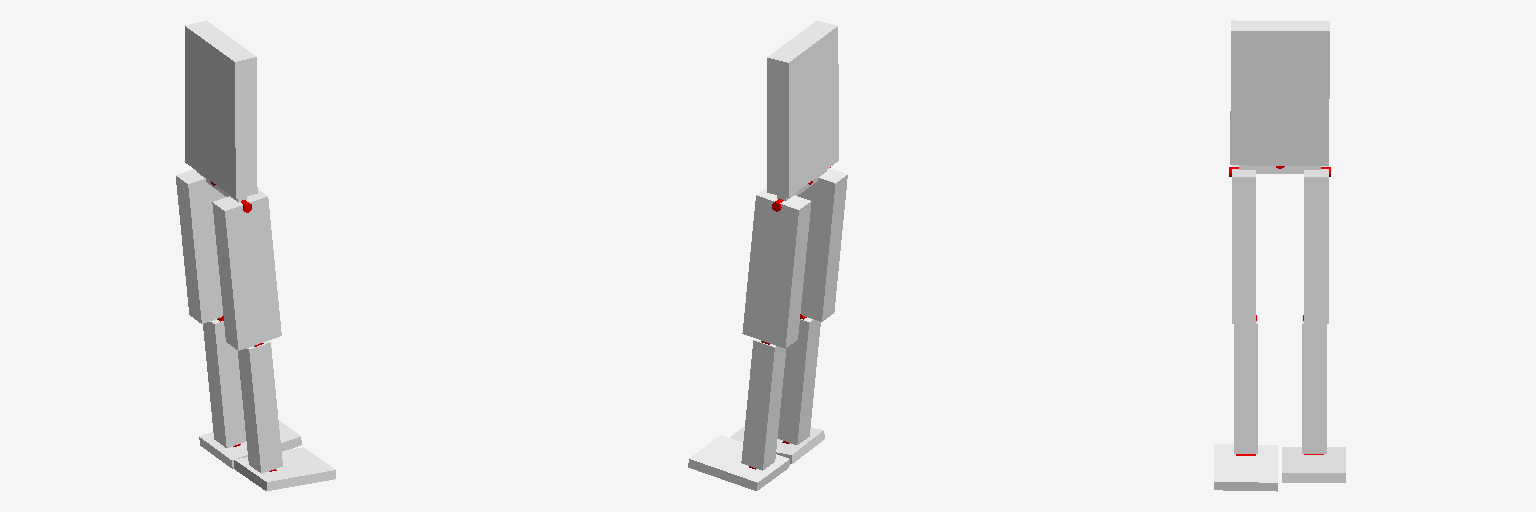
URDF robot description (humanoid):
<?xml version="1.0" ?>
<robot name="humanoid">

    <link name="body">
        <visual>
            <geometry>
                <box size="0.05 0.2 0.3"/>
            </geometry>
            <origin xyz="0.0 0 0" rpy="-0.0056 -0.0021 0"/>
            <material name="linkColor">
                <color rgba="1 1 1 1"/>
            </material>
        </visual>
        <inertial>
            <mass value="10.14"/>
            <inertia ixx="190" ixy="-0.237" ixz="2.20" iyy="194" iyz="1.42" izz="30.8"/>
            <origin xyz="0.00672 0.00244 0.076" rpy="0 0 0"/>
        </inertial>
        <collision>
            <geometry>
                <box size="0.05 0.2 0.3"/>
            </geometry>
            <origin xyz="0.0 0 0" rpy="-0.0056 -0.0021 0"/>
        </collision>
    </link>


    <joint name="torsoBody" type="fixed">
        <parent link="body"/>
        <child link="torso"/>
        <origin xyz="0 0.0 -0.15" rpy="0 0 0"/>
        <axis xyz="1 0 0"/>
        <limit effort="10" lower="-3" upper="+3" velocity="10"/>
        <dynamics damping="0"/>
    </joint>

    <link name="torso">
        <visual>
            <geometry>
                <cylinder length="0.04" radius="0.01"/>
            </geometry>
            <origin xyz="0 0 0" rpy="0 1.57 0"/>
            <axis xyz="0 0 0" />
            <material name="red">
                <color rgba="1 0.0 0.0 1.0"/>
            </material>
        </visual>
        <inertial>
            <mass value="0.0"/>
            <inertia ixx="0" ixy="0" ixz="0.0" iyy="0" iyz="0.0" izz="0"/>
        </inertial>
    </link>





    <!-- ****************************Right leg joints******************************************** -->

    <joint name="jointHipR" type="revolute">
        <parent link="torso"/>
        <child link="hipCylinderR"/>
        <origin xyz="0 0.0 0.0" rpy="0 -0.1 0"/>
        <axis xyz="1 0 0"/>
        <limit effort="10" lower="-3" upper="+3" velocity="10"/>
        <dynamics damping="0"/>
    </joint>


    <link name="hipCylinderR">
        <visual>
            <geometry>
                <cylinder length="0.04" radius="0.01"/>
            </geometry>
            <origin xyz="0 0 0.0" rpy="0 1.57 0"/>
            <axis xyz="0 0 0" />
            <material name="red">
                <color rgba="1 0.0 0.0 1.0"/>
            </material>
        </visual>
        <inertial>
            <mass value="0"/>
            <inertia ixx="0" ixy="0" ixz="0.0" iyy="0" iyz="0.0" izz="0"/>
        </inertial>
    </link>

    <joint name="jointUpperLegR" type="revolute">
        <parent link="hipCylinderR"/>
        <child link="upperLegCylinderR"/>
        <origin xyz="0 -0.0830 -0.0250" rpy="0 0 0"/>
        <axis xyz="0 1 0"/>
        <limit effort="10" lower="-3" upper="+3" velocity="10"/>
        <dynamics damping="0"/>
    </joint>

    <link name="upperLegCylinderR">
        <visual>
            <geometry>
                <cylinder length="0.04" radius="0.01"/>
            </geometry>
            <origin xyz="0 0 0" rpy="1.57 0 0"/>
            <axis xyz="0 0 0" />
            <material name="red"/>
        </visual>
        <inertial>
            <mass value="0"/>
            <inertia ixx="0" ixy="0" ixz="0.0" iyy="0" iyz="0.0" izz="0"/>
        </inertial>
    </link>

    <joint name="jointLowerLegR" type="revolute">
        <parent link="upperLegCylinderR"/>
        <child link="lowerlegCylinderR"/>
        <origin xyz="0.00110 0.0140 -0.3155" rpy="0 0 0"/>
        <axis xyz="0 1 0"/>
        <limit effort="10" lower="-3" upper="+3" velocity="10"/>
        <dynamics damping="0"/>
    </joint>

    <link name="lowerlegCylinderR">
        <visual>
            <geometry>
                <cylinder length="0.044" radius="0.01"/>
            </geometry>
            <origin xyz="0 0 0" rpy="1.57075 0 0"/>
            <axis xyz="0 0 0" />
            <material name="red"/>
        </visual>
        <inertial>
            <mass value="0"/>
            <inertia ixx="0" ixy="0" ixz="0.0" iyy="0" iyz="0.0" izz="0"/>
        </inertial>
    </link>

    <joint name="jointAnkleR" type="revolute">
        <parent link="lowerlegCylinderR"/>
        <child link="ankleCylinderR"/>
        <origin xyz="0.00300 0 -0.2915" rpy="-0.021 0.164 0"/>
        <axis xyz="0 1 0"/>
        <limit effort="10" lower="-3" upper="+3" velocity="10"/>
        <dynamics damping="0"/>
    </joint>

    <link name="ankleCylinderR">
        <visual>
            <geometry>
                <cylinder length="0.04" radius="0.01"/>
            </geometry>
            <origin xyz="0 0 0.0" rpy="1.57075 0 0"/>
            <axis xyz="0 0 0" />
            <material name="red"/>
        </visual>
        <inertial>
            <mass value="0"/>
            <inertia ixx="0" ixy="0" ixz="0.0" iyy="0" iyz="0.0" izz="0"/>
        </inertial>
    </link>
<!-- 
    <joint name="jointfootR" type="revolute">
        <parent link="ankleCylinderR"/>
        <child link="footCylinderR"/>
        <origin xyz="0 0 -0.0115" rpy="0 0 0"/>
        <axis xyz="1 0 0"/>
        <limit effort="10" lower="-3" upper="+3" velocity="10"/>
        <dynamics damping="0"/>
    </joint>

    <link name="footCylinderR">
        <visual>
            <geometry>
                <cylinder length="0.04" radius="0.01"/>
            </geometry>
            <origin xyz="0 0 0.02" rpy="0 1.57 0"/>
            <axis xyz="0 0 0" />
            <material name="red"/>
        </visual>
        <inertial>
            <mass value="0"/>
            <inertia ixx="0" ixy="0" ixz="0.0" iyy="0" iyz="0.0" izz="0"/>
        </inertial>
    </link> -->


    <!--************************************ Left leg joints **********************************************-->


    <joint name="jointHipL" type="revolute">
        <parent link="torso"/>
        <child link="hipCylinderL"/>
        <origin xyz="0 0.0 0.0" rpy="0 -0.1 0"/>
        <axis xyz="1 0 0"/>
        <limit effort="10" lower="-3" upper="+3" velocity="10"/>
        <dynamics damping="0"/>
    </joint>


    <link name="hipCylinderL">
        <visual>
            <geometry>
                <cylinder length="0.04" radius="0.01"/>
            </geometry>
            <origin xyz="0 0 0.0" rpy="0 1.57 0"/>
            <axis xyz="0 0 0" />
            <material name="red">
                <color rgba="1 0.0 0.0 1.0"/>
            </material>
        </visual>
        <inertial>
            <mass value="0"/>
            <inertia ixx="0" ixy="0" ixz="0.0" iyy="0" iyz="0.0" izz="0"/>
        </inertial>
    </link>

    <joint name="jointUpperLegL" type="revolute">
        <parent link="hipCylinderL"/>
        <child link="upperLegCylinderL"/>
        <origin xyz="0 0.0830 -0.0250" rpy="0 0 0"/>
        <axis xyz="0 1 0"/>
        <limit effort="10" lower="-3" upper="+3" velocity="10"/>
        <dynamics damping="0"/>
    </joint>

    <link name="upperLegCylinderL">
        <visual>
            <geometry>
                <cylinder length="0.04" radius="0.01"/>
            </geometry>
            <origin xyz="0 0 0.0" rpy="1.57 0 0"/>
            <axis xyz="0 0 0" />
            <material name="red"/>
        </visual>
        <inertial>
            <mass value="0"/>
            <inertia ixx="0" ixy="0" ixz="0.0" iyy="0" iyz="0.0" izz="0"/>
        </inertial>
    </link>

    <joint name="jointLowerLegL" type="revolute">
        <parent link="upperLegCylinderL"/>
        <child link="lowerlegCylinderL"/>
        <origin xyz="0.00110 -0.0140 -0.3155" rpy="0 0 0"/>
        <axis xyz="0 1 0"/>
        <limit effort="10" lower="-3" upper="+3" velocity="10"/>
        <dynamics damping="0"/>
    </joint>

    <link name="lowerlegCylinderL">
        <visual>
            <geometry>
                <cylinder length="0.044" radius="0.01"/>
            </geometry>
            <origin xyz="0 0 0" rpy="1.57075 0 0"/>
            <axis xyz="0 0 0" />
            <material name="red"/>
        </visual>
        <inertial>
            <mass value="0"/>
            <inertia ixx="0" ixy="0" ixz="0.0" iyy="0" iyz="0.0" izz="0"/>
        </inertial>
    </link>

    <joint name="jointAnkleL" type="revolute">
        <parent link="lowerlegCylinderL"/>
        <child link="ankleCylinderL"/>
        <origin xyz="0.00300 0 -0.2915" rpy="0 0 0"/>
        <axis xyz="0 1 0"/>
        <limit effort="10" lower="-3" upper="+3" velocity="10"/>
        <dynamics damping="0"/>
    </joint>

    <link name="ankleCylinderL">
        <visual>
            <geometry>
                <cylinder length="0.04" radius="0.01"/>
            </geometry>
            <origin xyz="0 0 0.0" rpy="1.57075 0 0"/>
            <axis xyz="0 0 0" />
            <material name="red"/>
        </visual>
        <inertial>
            <mass value="0"/>
            <inertia ixx="0" ixy="0" ixz="0.0" iyy="0" iyz="0.0" izz="0"/>
        </inertial>
    </link>

    <!-- <joint name="jointfootL" type="revolute">
        <parent link="ankleCylinderL"/>
        <child link="footCylinderL"/>
        <origin xyz="0 0 -0.0115" rpy="0 0 0"/>
        <axis xyz="1 0 0"/>
        <limit effort="10" lower="-3" upper="+3" velocity="10"/>
        <dynamics damping="0"/>
    </joint>

    <link name="footCylinderL">
        <visual>
            <geometry>
                <cylinder length="0.04" radius="0.01"/>
            </geometry>
            <origin xyz="0 0 0.02" rpy="0 1.57 0"/>
            <axis xyz="0 0 0" />
            <material name="red"/>
        </visual>
        <inertial>
            <mass value="0"/>
            <inertia ixx="0" ixy="0" ixz="0.0" iyy="0" iyz="0.0" izz="0"/>
        </inertial>
    </link> -->




    <!-- **************************************Decorations Right leg **********************************************-->


    <joint name="fixed_hipBridgeR" type="fixed">
        <parent link="hipCylinderR"/>
        <child link="hipBridgeR"/>
    </joint>

    <link name="hipBridgeR">
        <visual>
            <geometry>
                <box size="0.02 0.0830 0.0250"/>
            </geometry>
            <origin xyz="0.0 -0.0415 -0.0125" rpy="0 0 0"/>
            <material name="linkColor">
                <color rgba="1 1 1 1"/>
            </material>
        </visual>
        <inertial>
            <mass value="0.219"/>
            <inertia ixx="0.414" ixy="0.149" ixz="0.00188" iyy="0.128" iyz="-0.0311" izz="0.395"/>
            <origin rpy="0 0 0" xyz="0.00131 -0.0515 -0.00661"/>
        </inertial>
        <collision>
            <geometry>
                <box size="0.02 0.0830 0.0250"/>
            </geometry>
            <origin xyz="0.0 -0.0415 -0.0125" rpy="0 0 0"/>
        </collision>
    </link>

    <joint name="fixed_upperLegBridgeR" type="fixed">
        <parent link="upperLegCylinderR"/>
        <child link="upperLegBridgeR"/>
    </joint>

    <link name="upperLegBridgeR">
        <visual>
            <geometry>
                <box size="0.1 0.05 0.3155"/>
            </geometry>
            <origin xyz="0 0.01 -0.15" rpy="0 0 0"/>
            <material name="linkColor">
                <color rgba="1 1 1 1"/>
            </material>
        </visual>
        <inertial>
            <mass value="1.94"/>
            <inertia ixx="10.4" ixy="-0.00195" ixz="-0.00195" iyy="-0.127" iyz="0.0231" izz="1.61"/>
            <origin xyz="0.00154 -0.00421 -0.111" rpy="0 0 0"/>
        </inertial>
        <collision>
            <geometry>
                <box size="0.1 0.05 0.3155"/>
            </geometry>
            <origin xyz="00 0.01 -0.15" rpy="0 0 0"/>
        </collision>
    </link>

    <joint name="fixed_lowerLegBridgeR" type="fixed">
        <parent link="lowerlegCylinderR"/>
        <child link="lowerLegBridgeR"/>
    </joint>

    <link name="lowerLegBridgeR">
        <visual>
            <geometry>
                <box size="0.05 0.05 0.28"/>
            </geometry>
            <origin xyz="0 0 -0.14" rpy="0 0 0"/>
            <material name="linkColor">
                <color rgba="1 1 1 1"/>
            </material>
        </visual>
        <inertial>
            <mass value="0.267"/>
            <inertia ixx="2.52" ixy="-0.000411" ixz="0.0366" iyy="2.45" iyz="-0.0238" izz="0.110"/>
            <origin xyz="0.00153 0.00496 -0.105" rpy="0 0 0"/>
        </inertial>
        <collision>
            <geometry>
                <box size="0.05 0.05 0.28"/>
            </geometry>
            <origin xyz="0 0 -0.14" rpy="0 0 0"/>
        </collision>
    </link>


    <joint name="fixed_ankleBridgeR" type="fixed">
        <parent link="ankleCylinderR"/>
        <child link="ankleBridgeR"/>
    </joint>

    <link name="ankleBridgeR">
        <visual>
            <geometry>
                <box size="0.16 0.13 0.02"/>
            </geometry>
            <origin xyz="0.04 0 -0.005" rpy="0 0 0"/>
            <material name="linkColor">
                <color rgba="1 1 1 1"/>
            </material>
        </visual>
        <inertial>
            <mass value="0.2356"/>
            <inertia ixx="0.0952" ixy="0.00066457" ixz="0.0003989" iyy="0.5002" iyz="-0.005328" izz="0.5679"/>
            <origin xyz="0.0230654545 0.0004316655 -0.0061157216" rpy="0 0 0"/>
        </inertial>
        <collision>
            <geometry>
                <box size="0.16 0.13 0.02"/>
            </geometry>
            <origin xyz="0.04 0 -0.01" rpy="0 0 0"/>
        </collision>
    </link>


    <!--&lt;!&ndash; *********************************Decorations Left leg ******************************************&ndash;&gt;-->
    <joint name="fixed_hipBridgeL" type="fixed">
        <parent link="hipCylinderL"/>
        <child link="hipBridgeL"/>
    </joint>

    <link name="hipBridgeL">
        <visual>
            <geometry>
                <box size="0.02 0.0830 0.0250"/>
            </geometry>
            <origin xyz="0 0.0415 -0.0125" rpy="0 0 0"/>
            <material name="linkColor">
                <color rgba="1 1 1 1"/>
            </material>
        </visual>
        <inertial>
            <mass value="0.219"/>
            <inertia ixx="0.414" ixy="0.149" ixz="0.0311" iyy="0.128" iyz="-0.00188" izz="0.395"/>
            <origin rpy="0 0 0" xyz="-0.00131 0.515 -0.00661"/>
        </inertial>
        <collision>
            <geometry>
                <box size="0.02 0.0830 0.0250"/>
            </geometry>
            <origin xyz="0 0.0415 0.0125" rpy="0 0 0"/>
        </collision>
    </link>

    <joint name="fixed_upperLegBridgeL" type="fixed">
        <parent link="upperLegCylinderL"/>
        <child link="upperLegBridgeL"/>
    </joint>

    <link name="upperLegBridgeL">
        <visual>
            <geometry>
                <box size="0.1 0.05 0.3155"/>
            </geometry>
            <origin xyz="0 -0.01 -0.15" rpy="0 0 0"/>
            <material name="linkColor">
                <color rgba="1 1 1 1"/>
            </material>
        </visual>
        <inertial>
            <mass value="1.94"/>
            <inertia ixx="10.4" ixy="0.00286" ixz=" 0.325" iyy="9.33" iyz="0.0226" izz="1.65"/>
            <origin xyz="-0.00167 0.00371 -0.111" rpy="0 0 0"/>
        </inertial>
        <collision>
            <geometry>
                <box size="0.1 0.05 0.3155"/>
            </geometry>
            <origin xyz="0.0005 -0.007 -0.15" rpy="0 0 0"/>
        </collision>
    </link>

    <joint name="fixed_lowerLegBridgeL" type="fixed">
        <parent link="lowerlegCylinderL"/>
        <child link="lowerLegBridgeL"/>
    </joint>

    <link name="lowerLegBridgeL">
        <visual>
            <geometry>
                <box size="0.05 0.05 0.28"/>
            </geometry>
            <origin xyz="0 0 -0.14" rpy="0 0 0"/>
            <material name="linkColor">
                <color rgba="1 1 1 1"/>
            </material>
        </visual>
        <inertial>
            <mass value="0.267"/>
            <inertia ixx="2.52" ixy="-0.000411" ixz="0.0366" iyy="2.45" iyz="-0.0238" izz="0.110"/>
            <origin xyz="0.00153 0.00496 -0.105" rpy="0 0 0"/>
        </inertial>
        <collision>
            <geometry>
                <box size="0.05 0.05 0.28"/>
            </geometry>
            <origin xyz="0.0015 0 -0.14" rpy="0 0 0"/>
        </collision>
    </link>


    <joint name="fixed_ankleBridgeL" type="fixed">
        <parent link="ankleCylinderL"/>
        <child link="ankleBridgeL"/>
    </joint>

    <link name="ankleBridgeL">
        <visual>
            <geometry>
                <box size="0.16 0.13 0.02"/>
            </geometry>
            <origin xyz="0.04 0 -0.005" rpy="0 0 0"/>
            <material name="linkColor">
                <color rgba="1 1 1 1"/>
            </material>
        </visual>
        <inertial>
            <mass value="0.2356"/>
            <inertia ixx="0.0952" ixy="0.00066457" ixz="0.0003989" iyy="0.5002" iyz="-0.005328" izz="0.5679"/>
            <origin xyz="0.0230654545 0.0004316655 -0.0061157216" rpy="0 0 0"/>
        </inertial>
        <collision>
            <geometry>
                <box size="0.16 0.13 0.02"/>
            </geometry>
            <origin xyz="0.04 0 -0.005" rpy="0 0 0"/>
        </collision>
    </link>
</robot>

--- Render facts (derived) ---
3 views of the same robot in one strip: view 1: azimuth 30°, elevation 25°; view 2: azimuth 150°, elevation 25°; view 3: azimuth 270°, elevation 25° (orthographic).
Robot: humanoid — 18 links, 17 joints (8 revolute, 9 fixed); root link body; default pose: every joint at zero.
Visible links, largest first — view 1: body, upperLegBridgeR, upperLegBridgeL, lowerLegBridgeR, lowerLegBridgeL, ankleBridgeR, ankleBridgeL; view 2: body, upperLegBridgeL, upperLegBridgeR, lowerLegBridgeL, lowerLegBridgeR, ankleBridgeL, ankleBridgeR; view 3: body, upperLegBridgeL, upperLegBridgeR, lowerLegBridgeL, lowerLegBridgeR, ankleBridgeR, ankleBridgeL.
Boxes of the visible links, x1=… form: body: x1=185, y1=20, x2=257, y2=198; upperLegBridgeR: x1=212, y1=189, x2=281, y2=350; upperLegBridgeL: x1=176, y1=169, x2=225, y2=323; lowerLegBridgeR: x1=238, y1=341, x2=282, y2=473; lowerLegBridgeL: x1=203, y1=319, x2=246, y2=447; ankleBridgeR: x1=234, y1=447, x2=335, y2=491; ankleBridgeL: x1=199, y1=420, x2=301, y2=468; body: x1=767, y1=21, x2=838, y2=197; upperLegBridgeL: x1=742, y1=188, x2=811, y2=348; upperLegBridgeR: x1=798, y1=168, x2=847, y2=321; lowerLegBridgeL: x1=741, y1=339, x2=785, y2=470; lowerLegBridgeR: x1=778, y1=317, x2=820, y2=444; ankleBridgeL: x1=688, y1=435, x2=789, y2=490; ankleBridgeR: x1=730, y1=426, x2=824, y2=463; body: x1=1230, y1=20, x2=1329, y2=165; upperLegBridgeL: x1=1304, y1=166, x2=1328, y2=323; upperLegBridgeR: x1=1232, y1=165, x2=1255, y2=323; lowerLegBridgeL: x1=1302, y1=315, x2=1326, y2=453; lowerLegBridgeR: x1=1234, y1=315, x2=1257, y2=453; ankleBridgeR: x1=1214, y1=444, x2=1277, y2=491; ankleBridgeL: x1=1282, y1=447, x2=1345, y2=482.
Size in the robot's own frame: 0.2361 by 0.2683 by 0.953 metres.
Geometry: primitives only (box / cylinder / sphere), no mesh files.